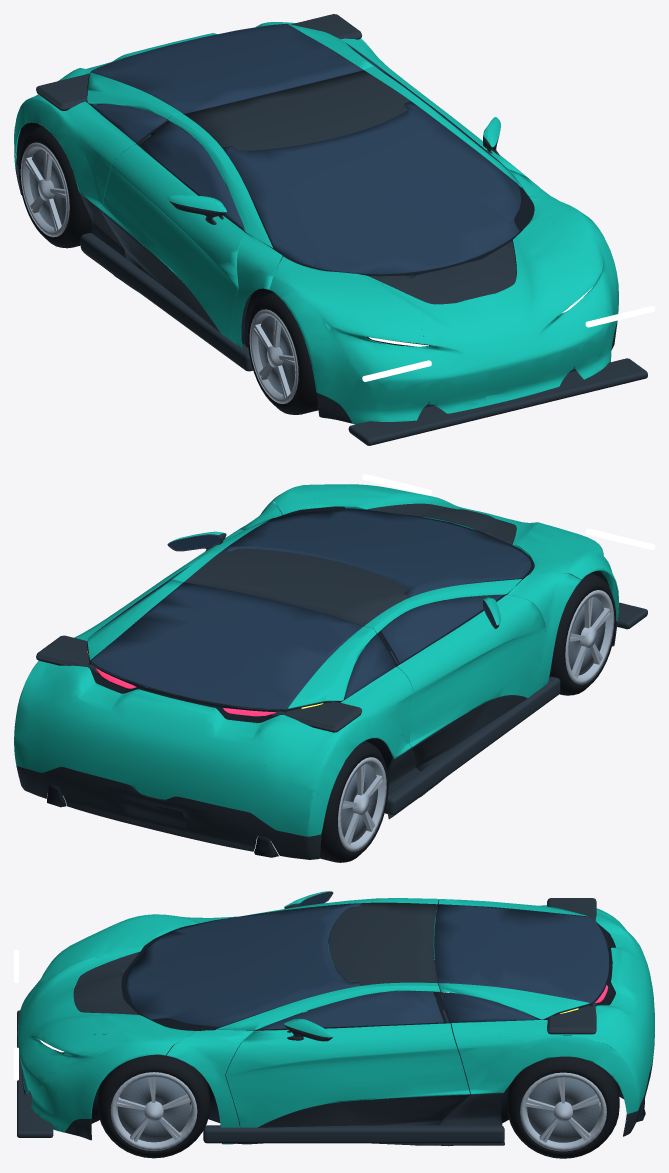
File: apex-lod0.glb
3 renders of one model, top to bottom at view 1: azimuth 30°, elevation 25°; view 2: azimuth 150°, elevation 25°; view 3: azimuth 270°, elevation 25°, orthographic. The views are drawn at different scales.
Parts seen in each view (by area): view 1: Body, WheelFrontR, WheelRearR; view 2: Body, WheelRearR, WheelFrontR; view 3: Body, WheelFrontL, WheelRearL.
Boxes of the visible parts, box(x1,y1,x2,y2) form: Body: box(14, 14, 654, 445); WheelFrontR: box(247, 292, 318, 414); WheelRearR: box(19, 126, 91, 248); Body: box(14, 474, 654, 859); WheelRearR: box(320, 741, 388, 862); WheelFrontR: box(549, 573, 615, 695); Body: box(14, 891, 654, 1146); WheelFrontL: box(98, 1053, 209, 1158); WheelRearL: box(507, 1056, 619, 1158).
Bounding box in the file's own units: 2.34 × 1.15 × 4.38.
